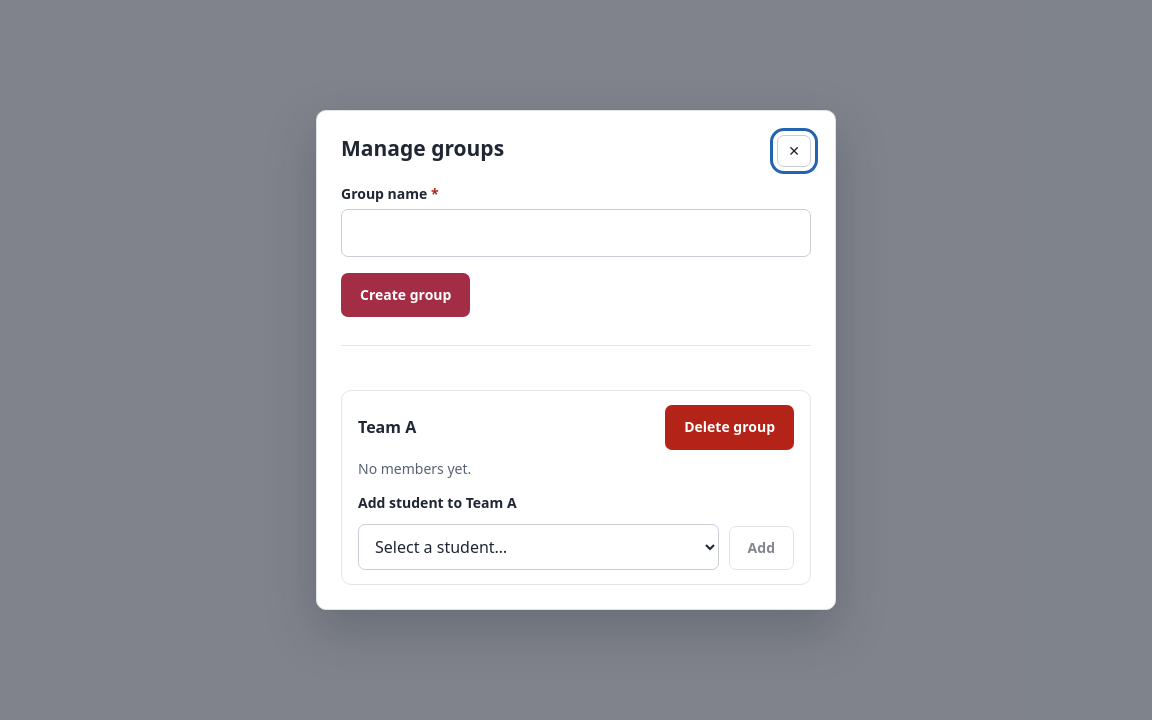
Test: ManageGroupsModal › adds an unassigned student to a group
Select "Bob Studentson (bob@example.com)" in the dropdown labelled "Add student to Team A" at [538, 548], box [358,524,719,570]
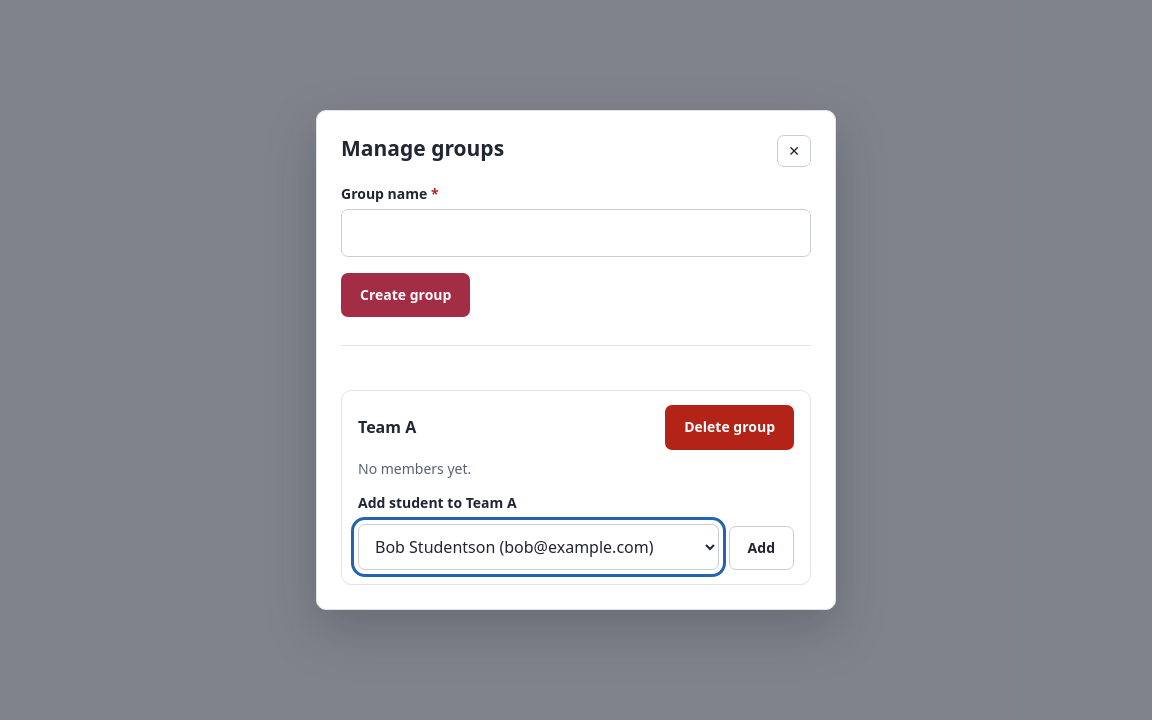
Click the button "Add" at [761, 548], box [729,526,794,570]
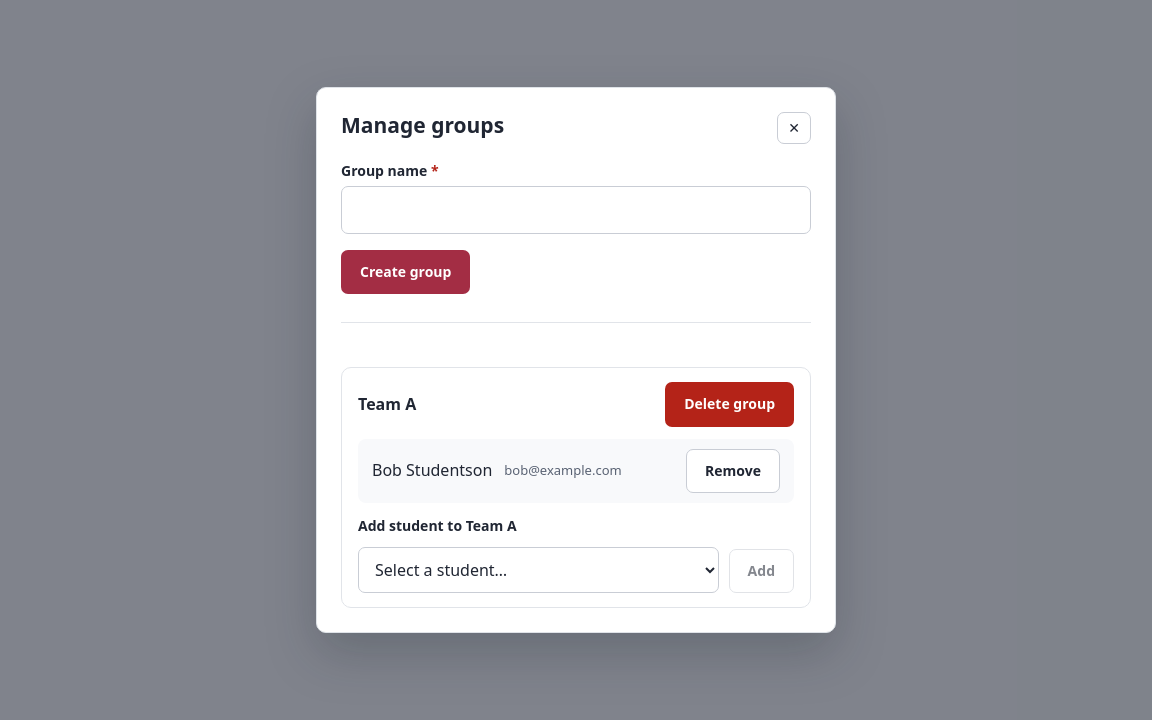
Now the text "Bob Studentson" is shown, box [372,458,492,484]
